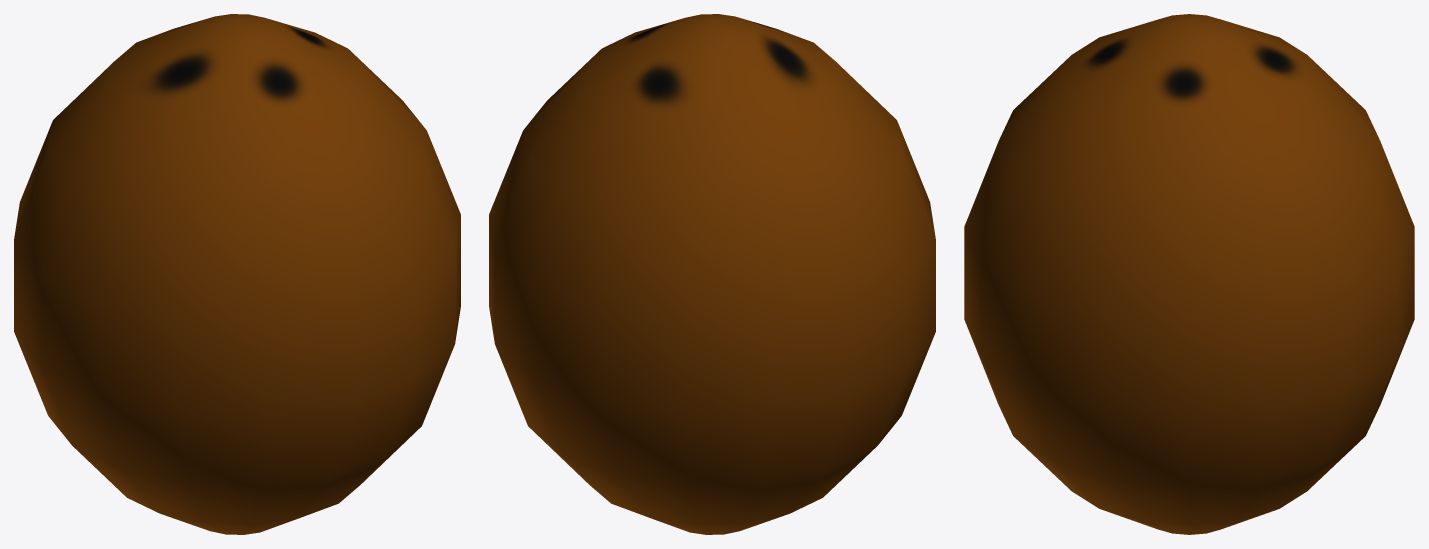
File: coconut.fbx
3 renders of one model, left to right at view 1: azimuth 30°, elevation 25°; view 2: azimuth 150°, elevation 25°; view 3: azimuth 270°, elevation 25°, orthographic.
Parts seen in each view (by area): view 1: Sphere; view 2: Sphere; view 3: Sphere.
Boxes of the visible parts, box(x1,y1,x2,y2) form: Sphere: box(14, 14, 460, 534); Sphere: box(489, 14, 935, 534); Sphere: box(964, 14, 1414, 534).
Size of the model in its own units: 125 by 156 by 125.
1 material, 1 textured.
